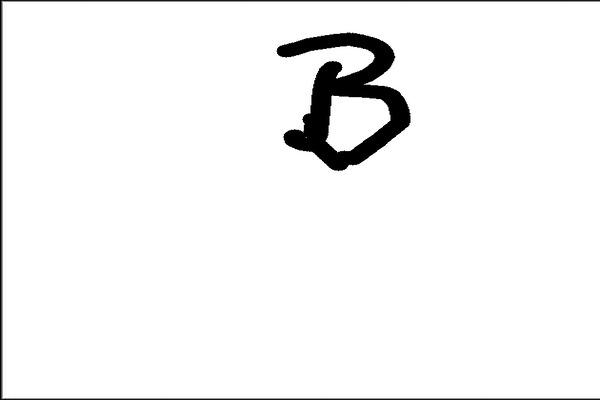B: (262, 24, 421, 179)
